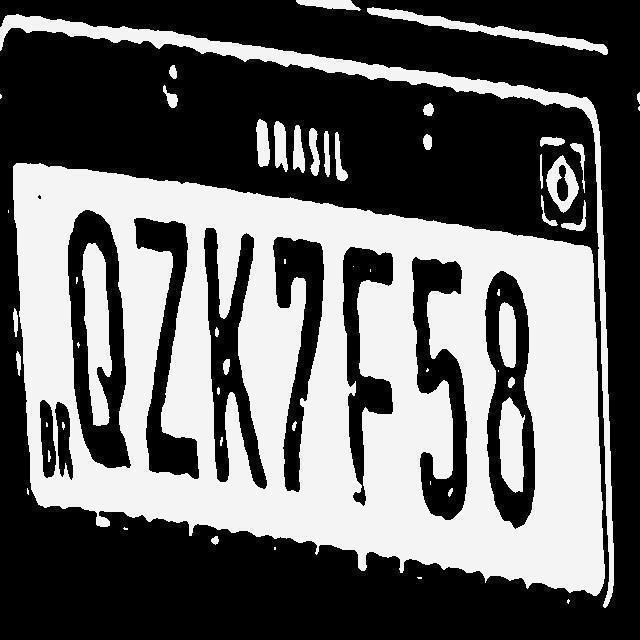5: (412, 256, 468, 524)
7: (272, 236, 326, 493)
8: (483, 268, 537, 530)
f: (340, 245, 394, 506)
k: (202, 226, 267, 488)
q: (67, 208, 131, 470)
z: (133, 216, 199, 479)
